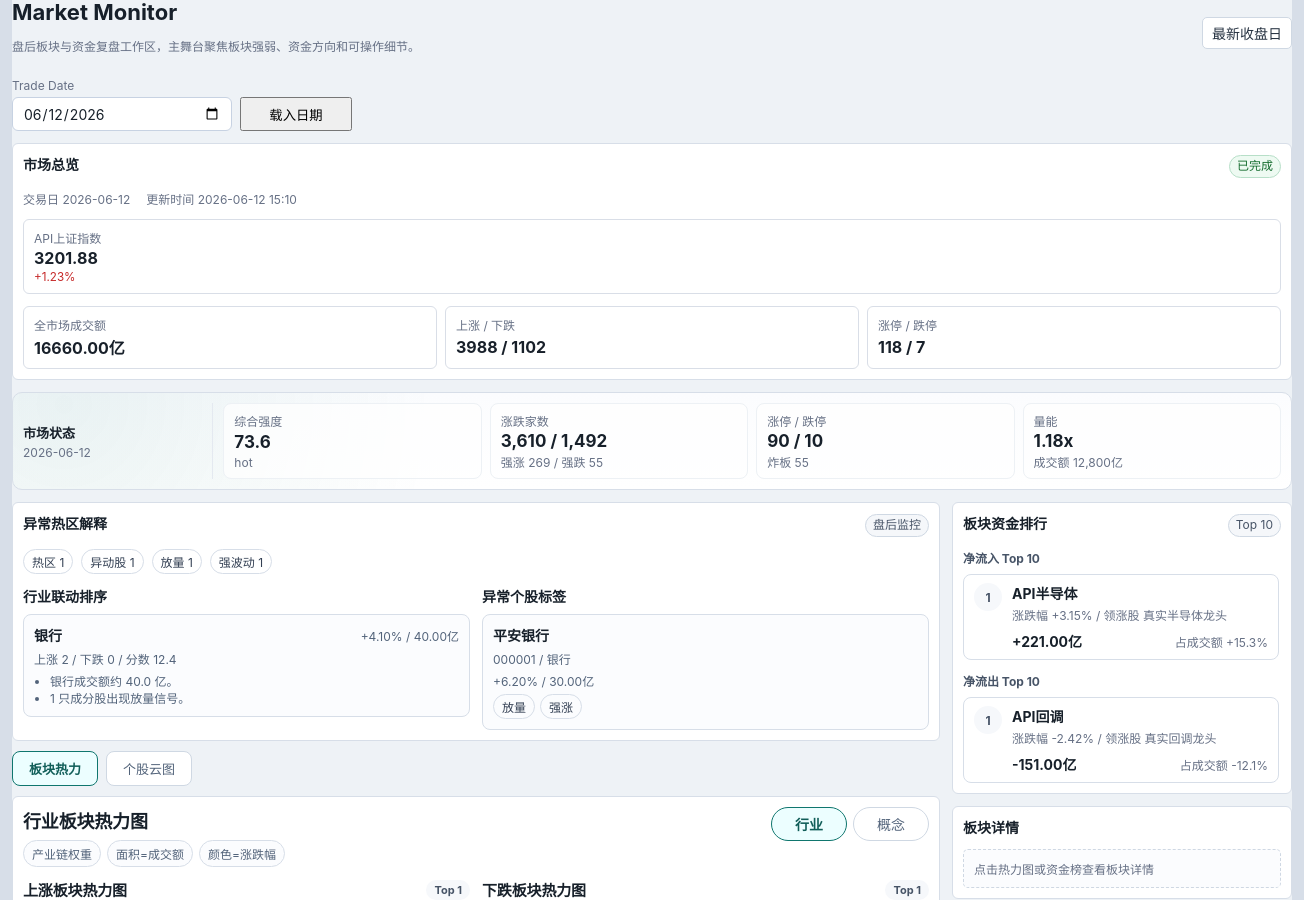
MarketMonitorWorkspace › shows a localized concept empty-source warning when concept daily rows are missing
Click the button "概念" at (891, 824), box [853,807,929,841]
(page scrolled)
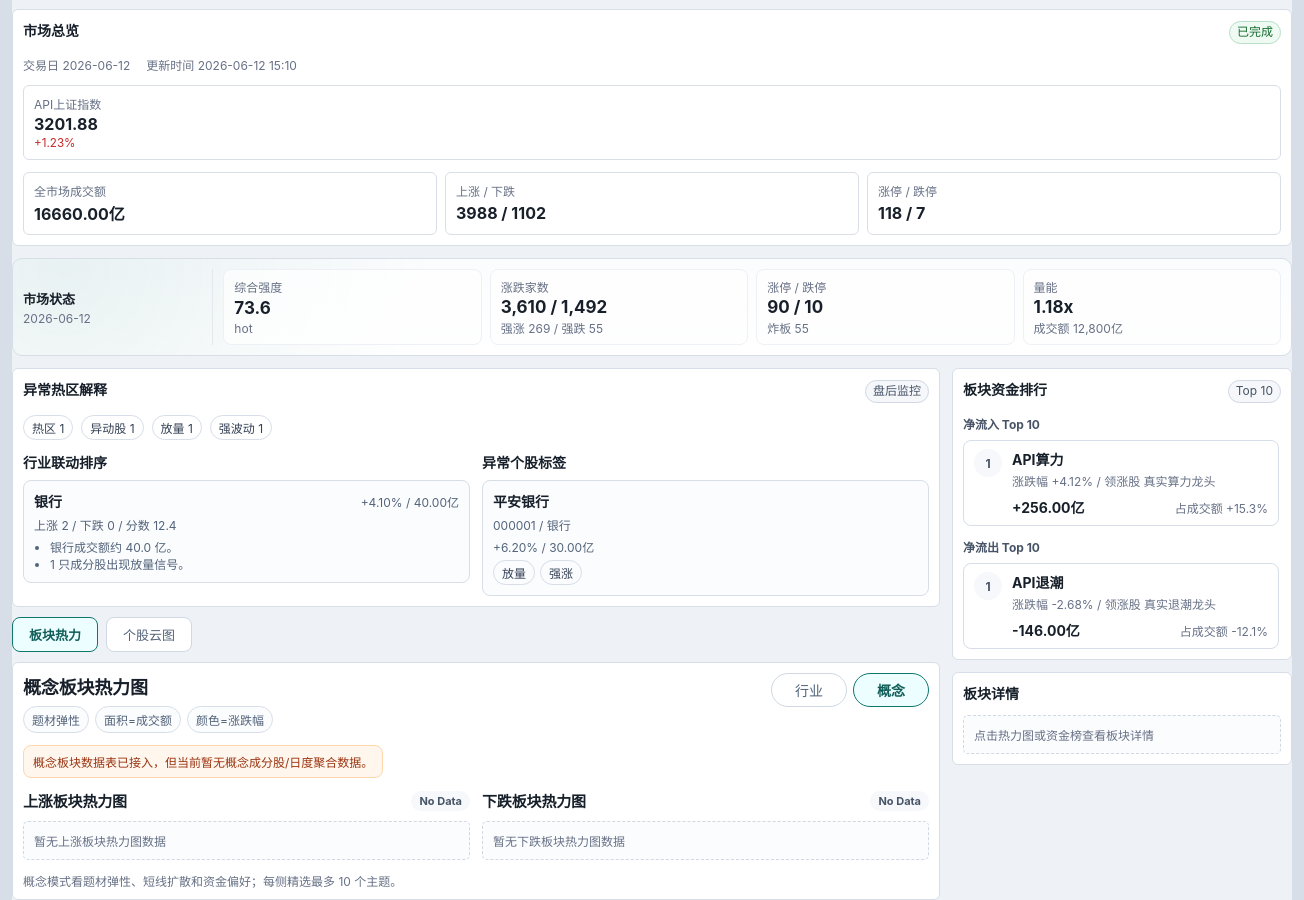
Now the heading "概念板块热力图" is shown, box [23,677,148,698]
Now the text "概念板块数据表已接入，但当前暂无概念成分股/日度聚合数据。" is shown, box [23,745,383,778]
